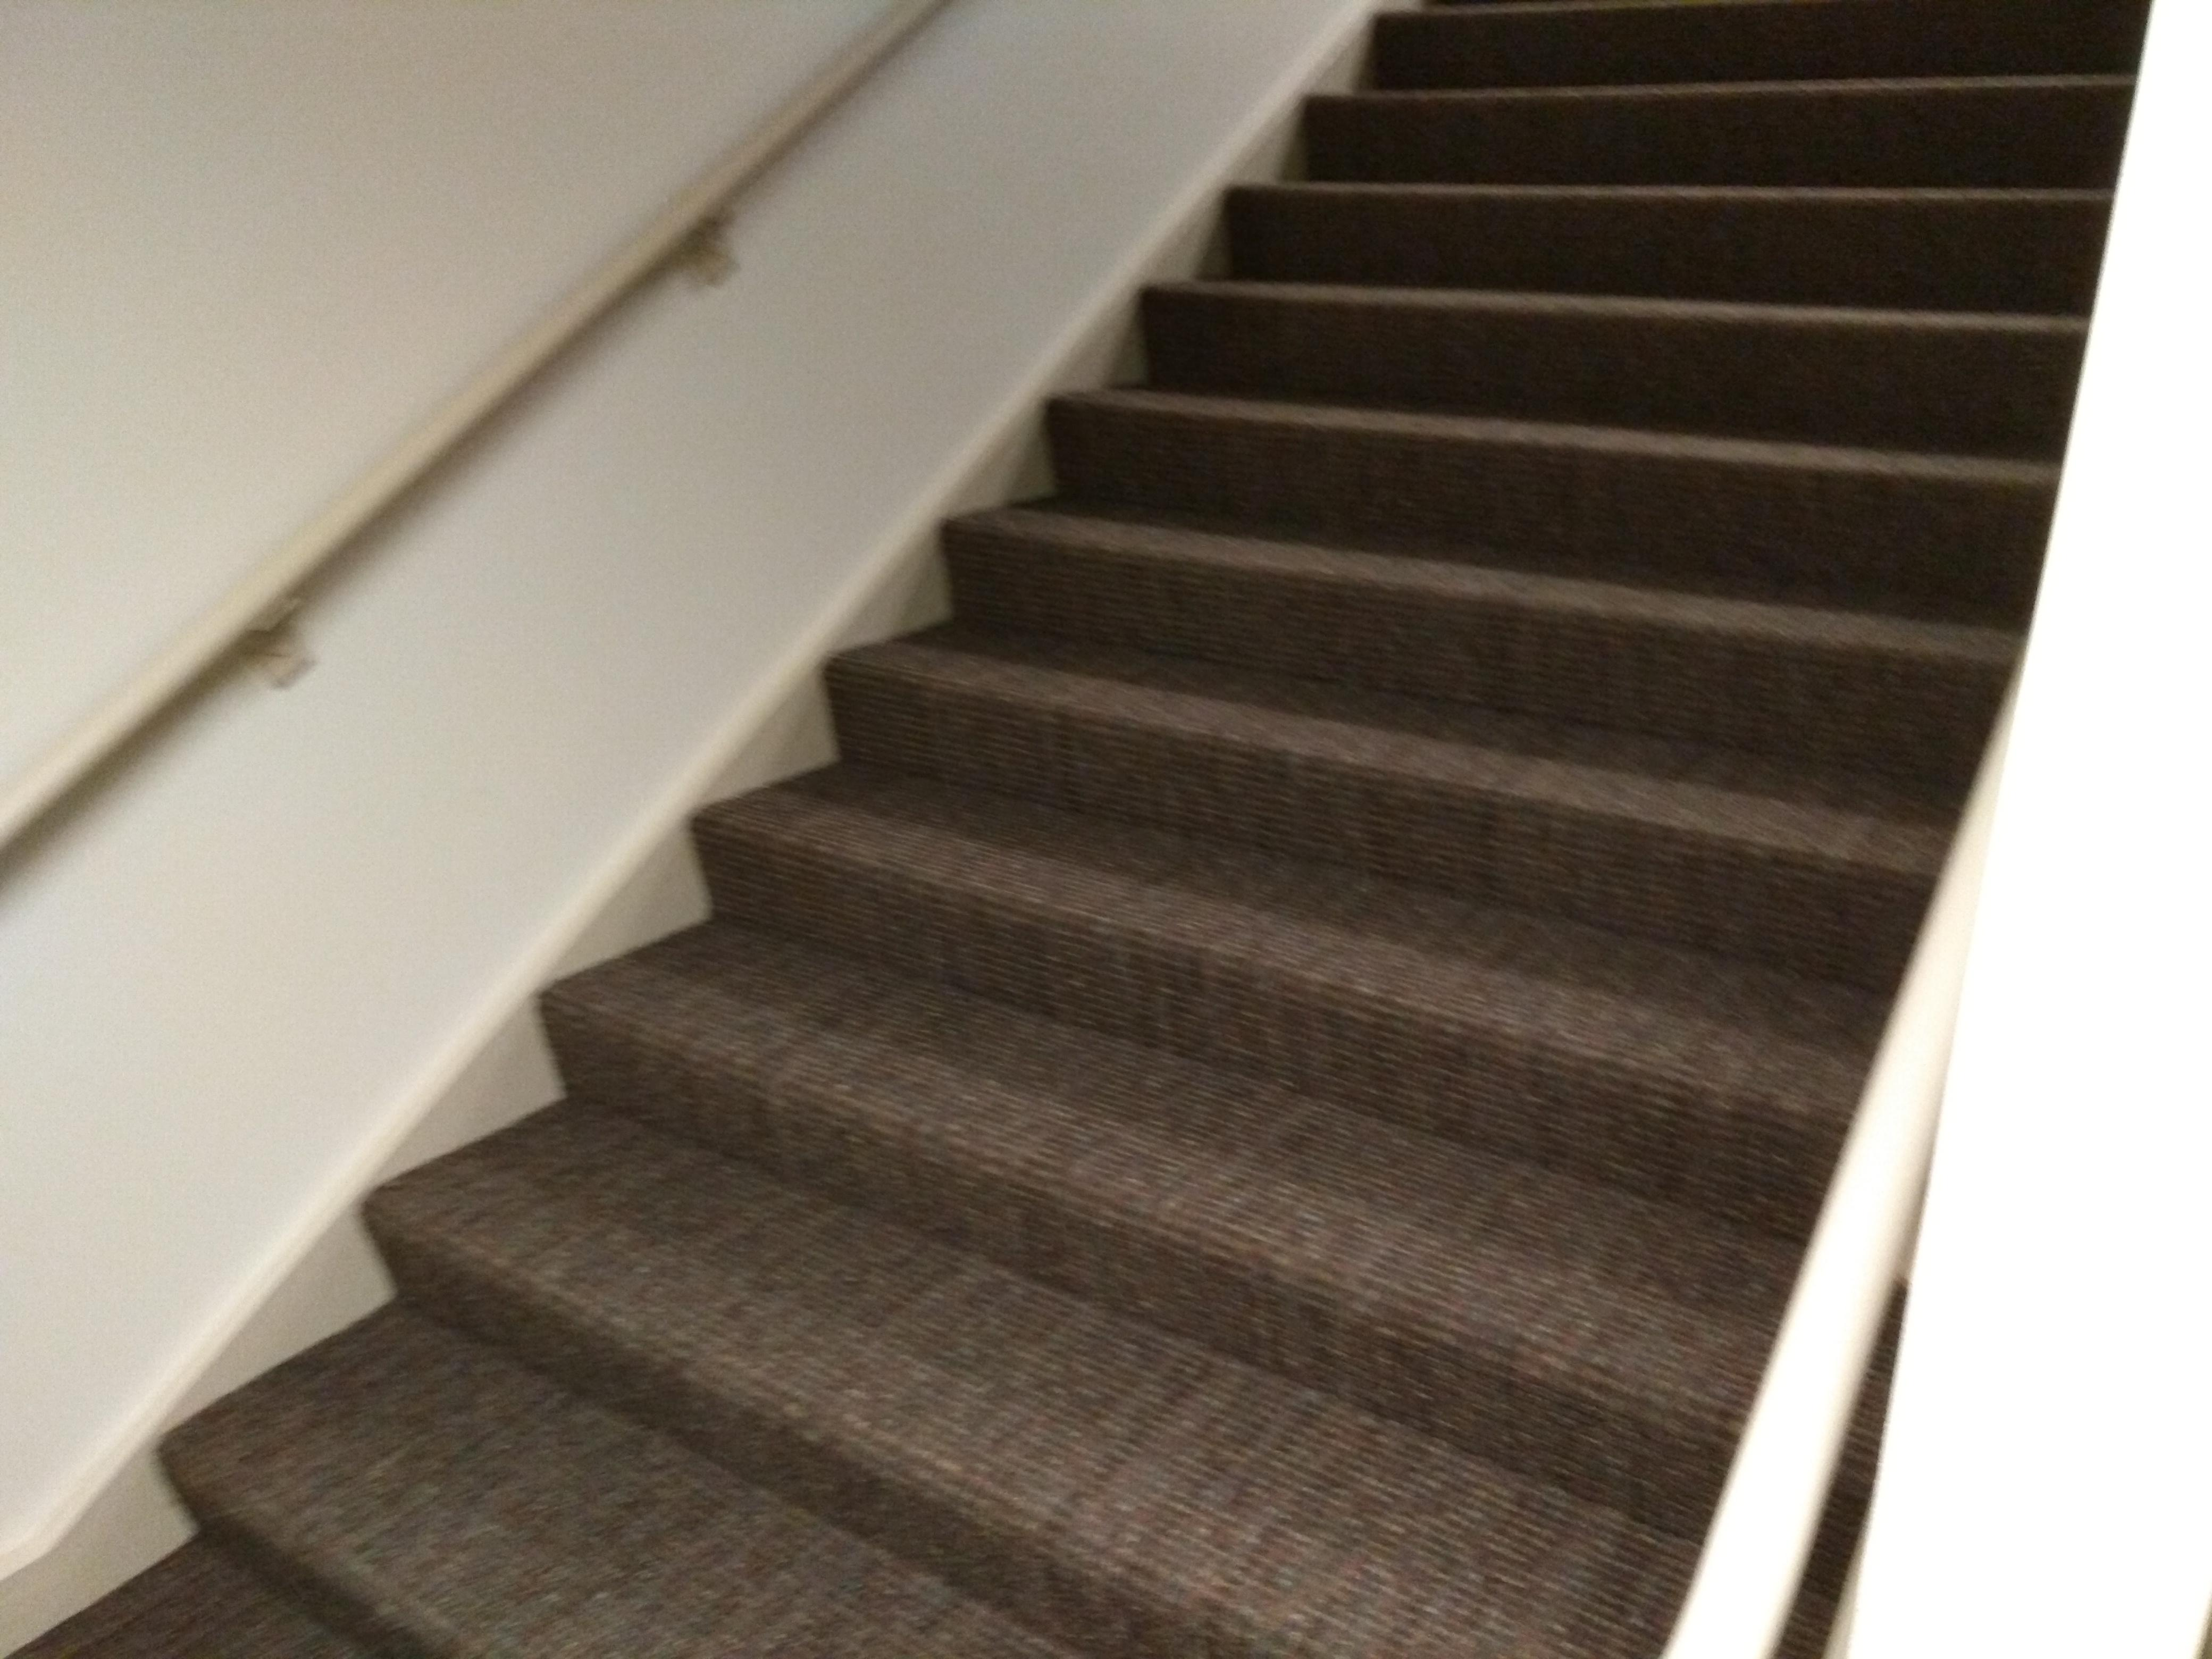stairs_up: (176, 19, 2088, 1591)
